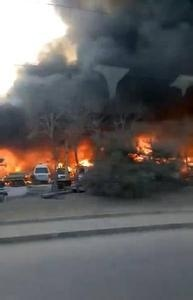fire: (1, 136, 96, 184), (131, 133, 154, 160)
